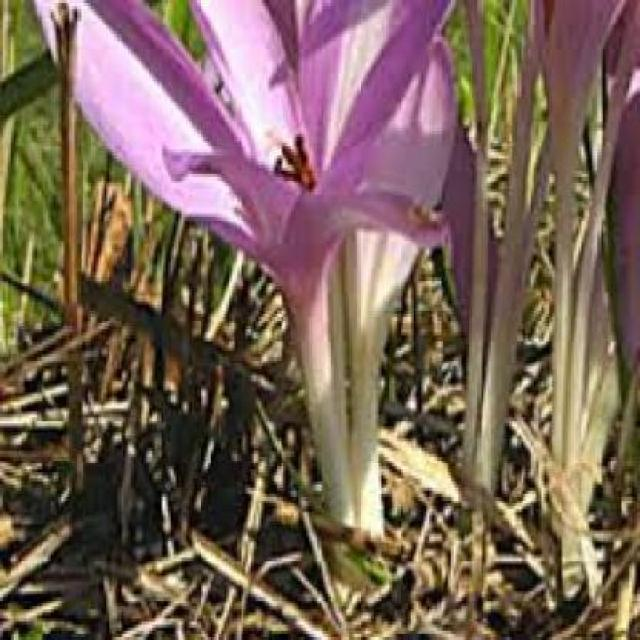Flower: (34, 0, 468, 305)
